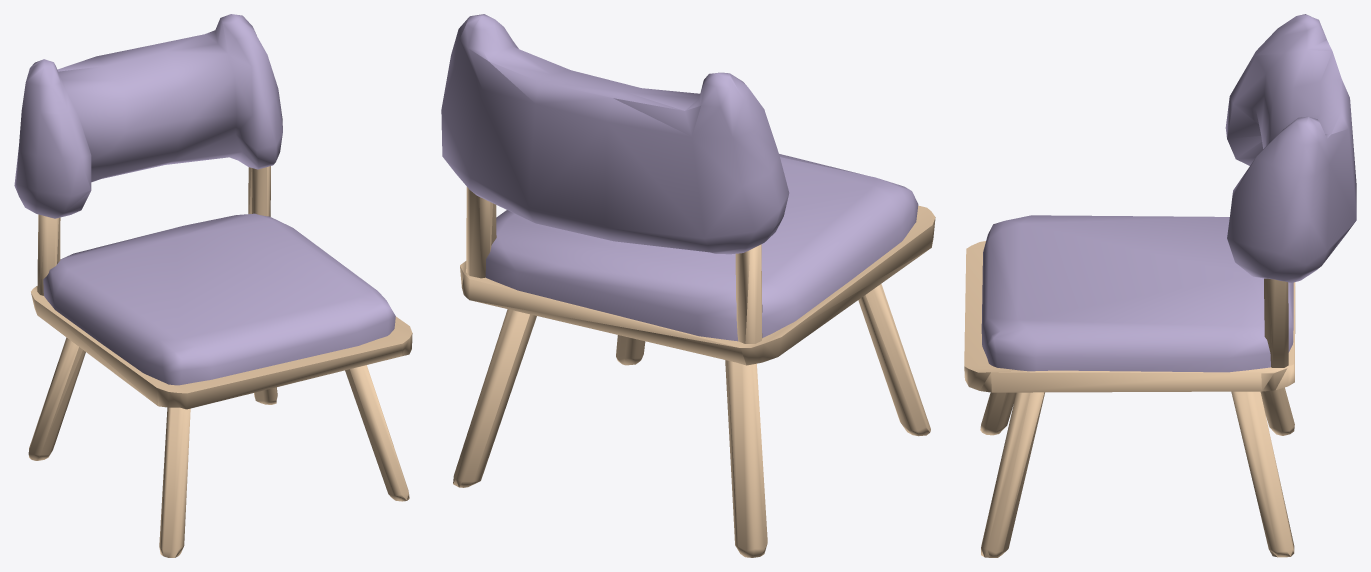
The model's file is bedroom_desk_chair.glb.
3 renders of one model, left to right at view 1: azimuth 30°, elevation 25°; view 2: azimuth 150°, elevation 25°; view 3: azimuth 270°, elevation 25°, orthographic. The views are drawn at different scales.
Bounding box in the file's own units: 0.9 × 1.25 × 1.05.
